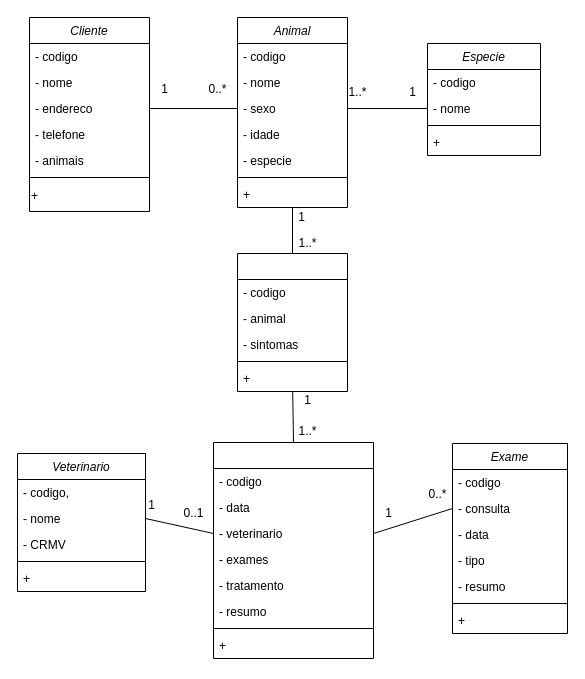
Some shapes in this 585 by 679 pixel diagram are drawn without their labels. Each missing label, with the box of its shape:
Consulta: (212, 442, 374, 658)
Tratamento: (236, 252, 348, 392)
